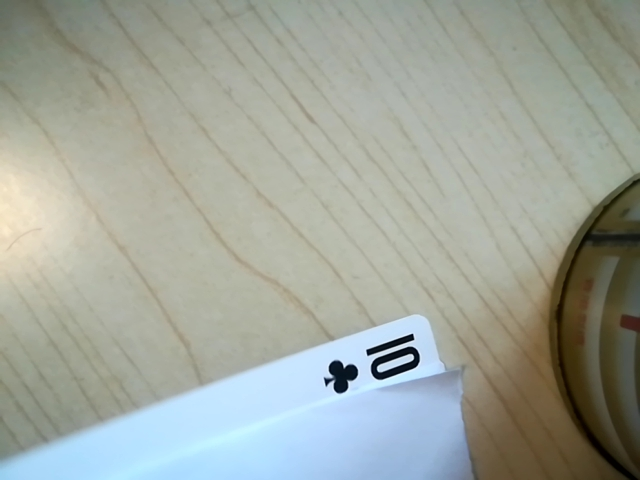mh 10: (309, 329, 438, 399)
